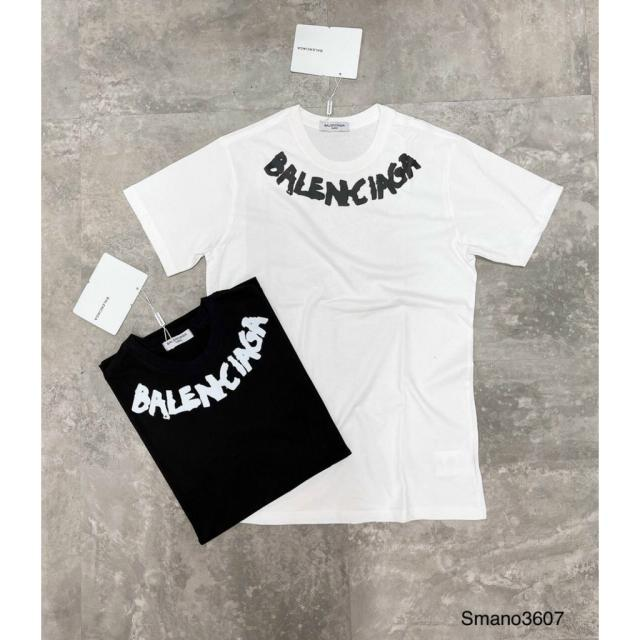Shirt: (122, 103, 560, 526)
